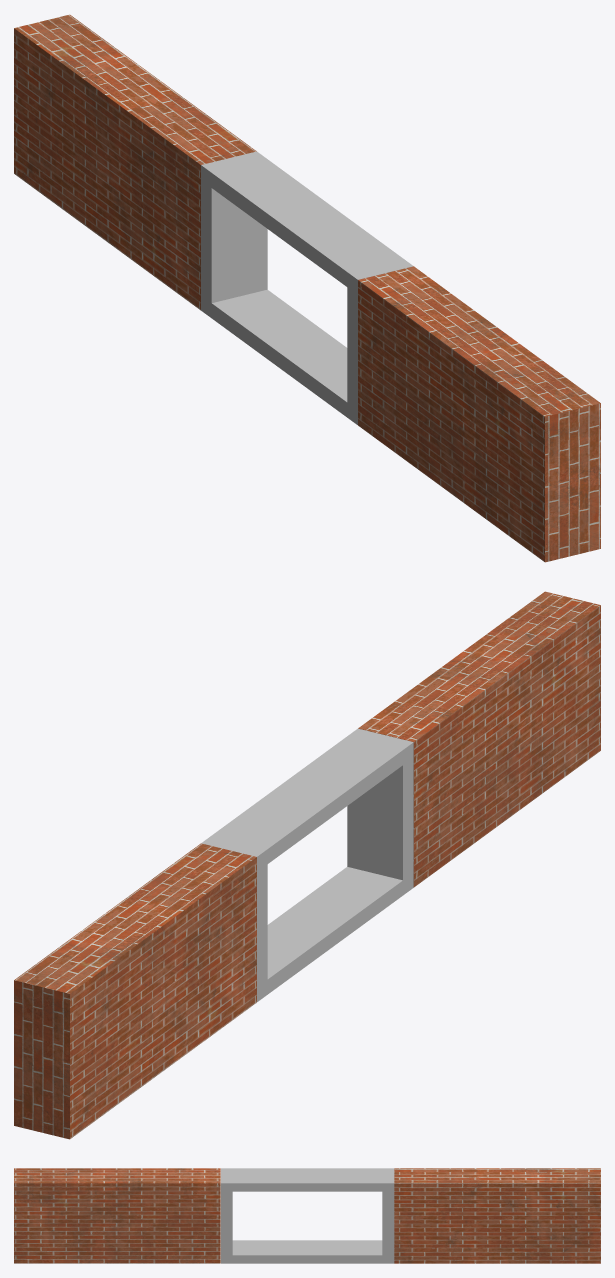
The model's file is SM_Gidan00T.fbx.
The picture shows the model from 3 angles, top to bottom: view 1: azimuth 30°, elevation 25°; view 2: azimuth 150°, elevation 25°; view 3: azimuth 270°, elevation 25°; orthographic projection. The views are drawn at different scales.
Parts seen in each view (by area): view 1: SM_Gidan00T; view 2: SM_Gidan00T; view 3: SM_Gidan00T.
Part boxes in pixels (x1,y1,x2,y2): SM_Gidan00T: [14, 14, 600, 562]; SM_Gidan00T: [14, 591, 600, 1139]; SM_Gidan00T: [14, 1168, 600, 1263].
Size of the model in its own units: 17.57 by 289 by 43.72.
